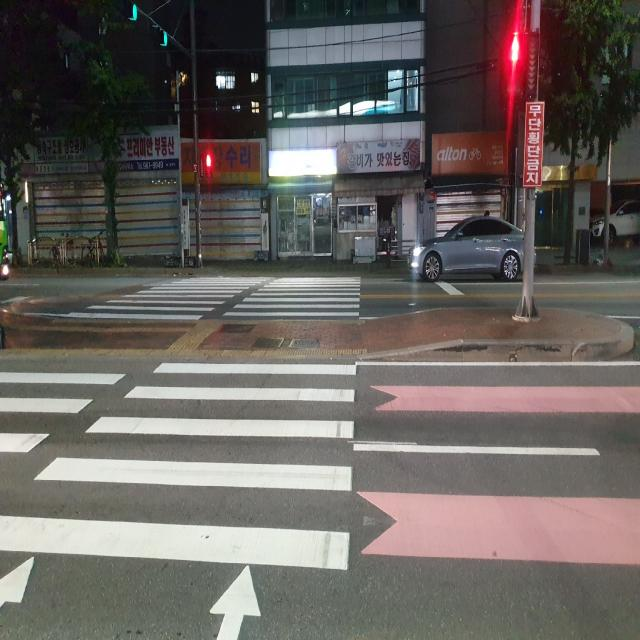빨간불: (502, 32, 544, 98), (203, 150, 215, 185)
횡단보도: (0, 271, 363, 640)
